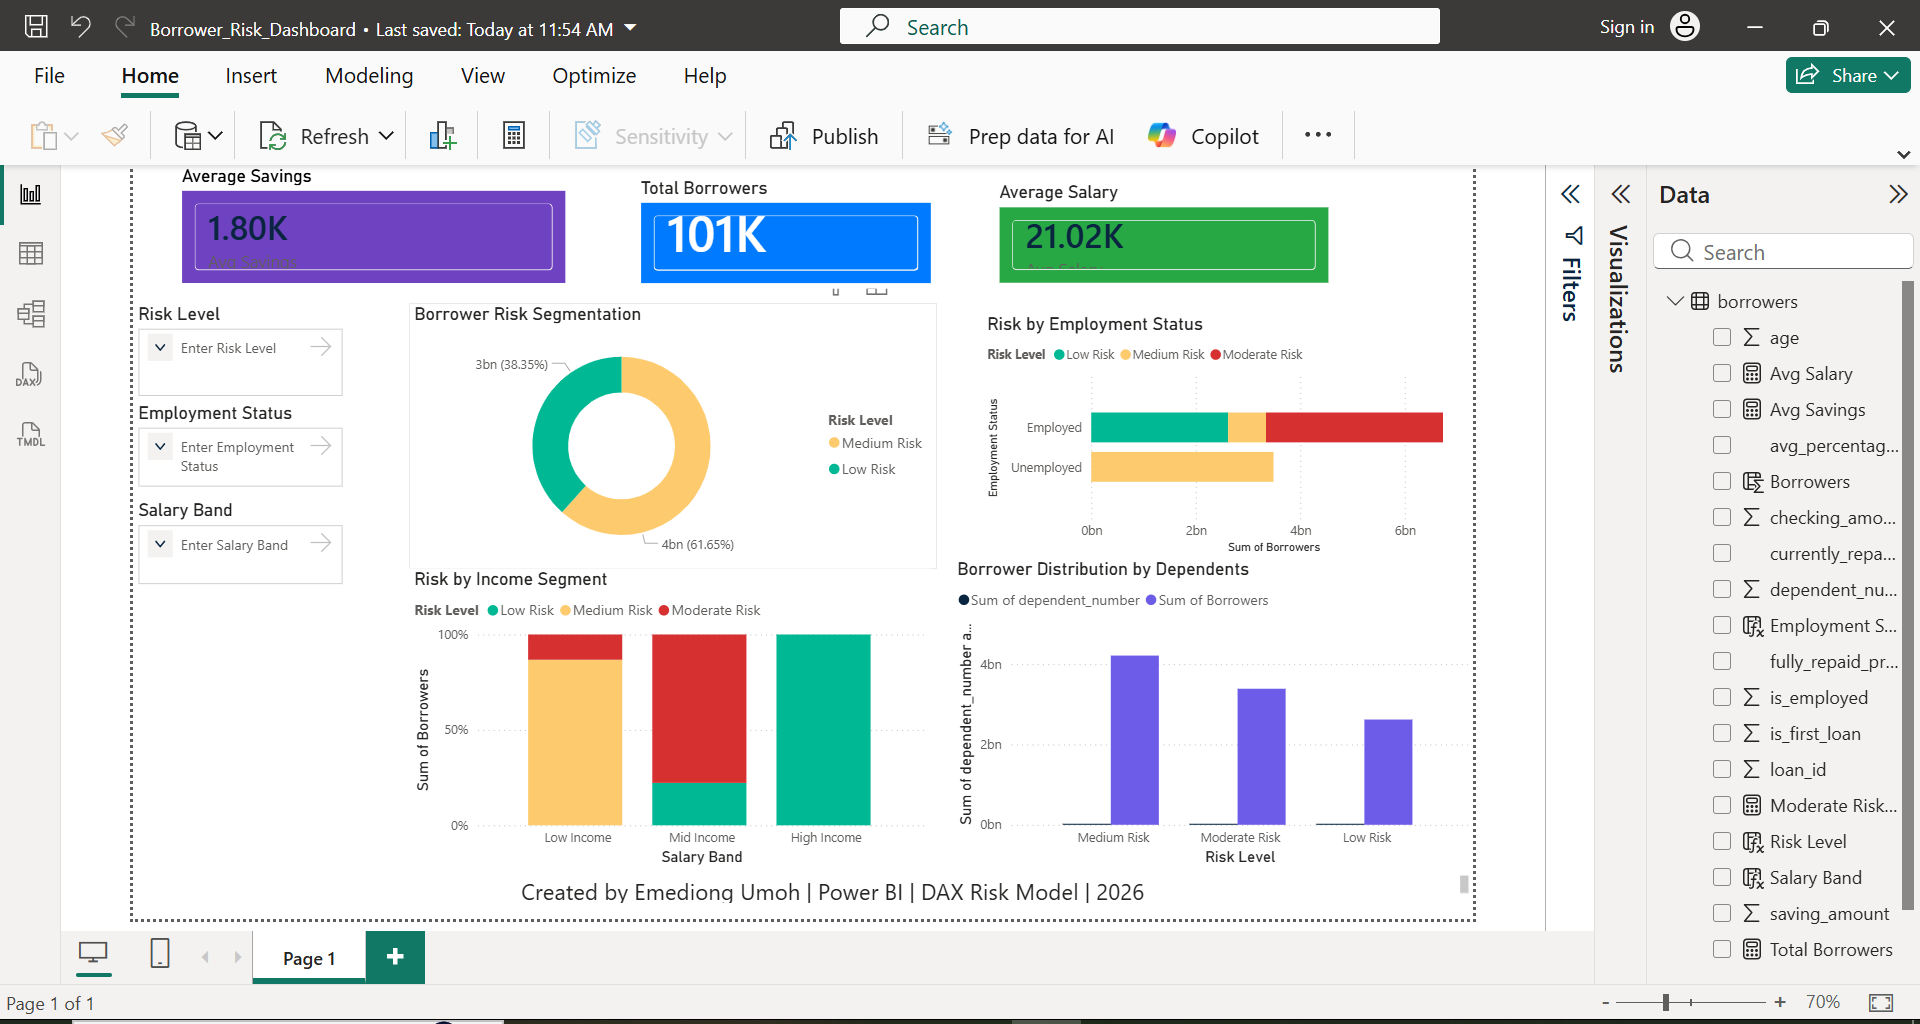

Layout of this report page (visuals, bound fields, positions):
{"tool":"powerbi","page":{"name":"Page 1","canvas":[1280,720],"ordinal":0},"visuals":[{"type":"donutChart","title":"Borrower Risk Segmentation","fields":{"Category":["borrowers.Risk Level"],"Y":["Sum(borrowers.Total Borrowers)"]},"box":[264,132,504.2,252.9],"z":0},{"type":"hundredPercentStackedColumnChart","title":"Risk by Income Segment","fields":{"Category":["borrowers.Salary Band"],"Series":["borrowers.Risk Level"],"Y":["Sum(borrowers.Total Borrowers)"]},"box":[264,384.9,497.9,287.9],"z":1},{"type":"barChart","title":"Risk by Employment Status","fields":{"Category":["borrowers.Employment Status"],"Series":["borrowers.Risk Level"],"Y":["Sum(borrowers.Total Borrowers)"]},"box":[811.2,141.6,469.2,233.8],"z":2},{"type":"clusteredColumnChart","title":"Borrower Distribution by Dependents","fields":{"Y":["Sum(borrowers.dependent_number)","Sum(borrowers.Borrowers)"],"Category":["borrowers.Risk Level"]},"box":[782.6,375.4,497.9,297.4],"z":3},{"type":"cardVisual","title":"Total Borrowers","fields":{"Data":["borrowers.Total Borrowers"]},"box":[480.4,11.1,287.9,106.6],"z":4},{"type":"cardVisual","title":"Average Salary","fields":{"Data":["borrowers.Avg Salary"]},"box":[822.3,15.9,324.5,101.8],"z":5},{"type":"cardVisual","title":"Average Savings","fields":{"Data":["borrowers.Avg Savings"]},"box":[41.4,0,377,117.7],"z":6},{"type":"textSlicer","fields":{"Values":["borrowers.Risk Level"]},"box":[0,132,205.2,93.8],"z":7},{"type":"textSlicer","fields":{"Values":["borrowers.Employment Status"]},"box":[0,225.9,205.2,85.9],"z":8},{"type":"textSlicer","fields":{"Values":["borrowers.Salary Band"]},"box":[0,319.7,205.2,85.9],"z":9},{"type":"textbox","box":[0,672.8,1280.4,36.6],"z":10}]}

Visuals, with their boxes on the page's 1280x720 design canvas (x1, y1, x2, y2). These are canvas units, not pixel positions in the 1920x1024 screenshot, which may show the page scaled, cropped or inside an application window:
"Borrower Risk Segmentation" donutChart: l=264, t=132, r=768, b=385
"Risk by Income Segment" hundredPercentStackedColumnChart: l=264, t=385, r=762, b=673
"Risk by Employment Status" barChart: l=811, t=142, r=1280, b=375
"Borrower Distribution by Dependents" clusteredColumnChart: l=783, t=375, r=1280, b=673
"Total Borrowers" cardVisual: l=480, t=11, r=768, b=118
"Average Salary" cardVisual: l=822, t=16, r=1147, b=118
"Average Savings" cardVisual: l=41, t=0, r=418, b=118
textSlicer - borrowers.Risk Level: l=0, t=132, r=205, b=226
textSlicer - borrowers.Employment Status: l=0, t=226, r=205, b=312
textSlicer - borrowers.Salary Band: l=0, t=320, r=205, b=406
textbox: l=0, t=673, r=1280, b=709
